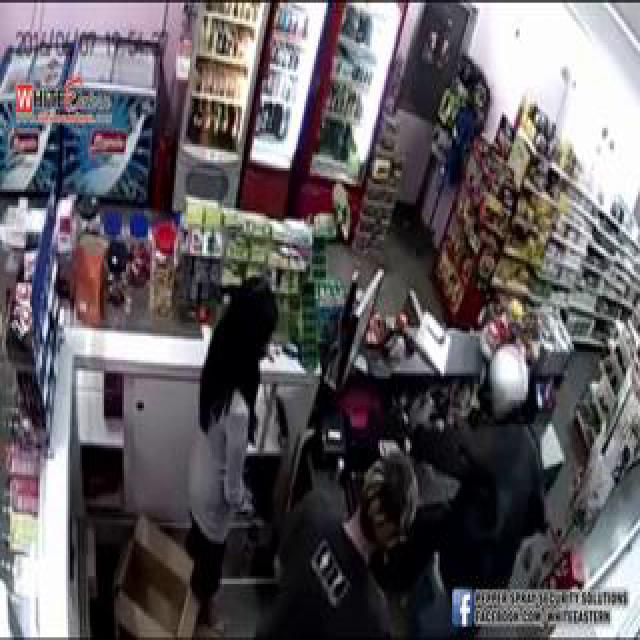robbery: (270, 347, 619, 640)
